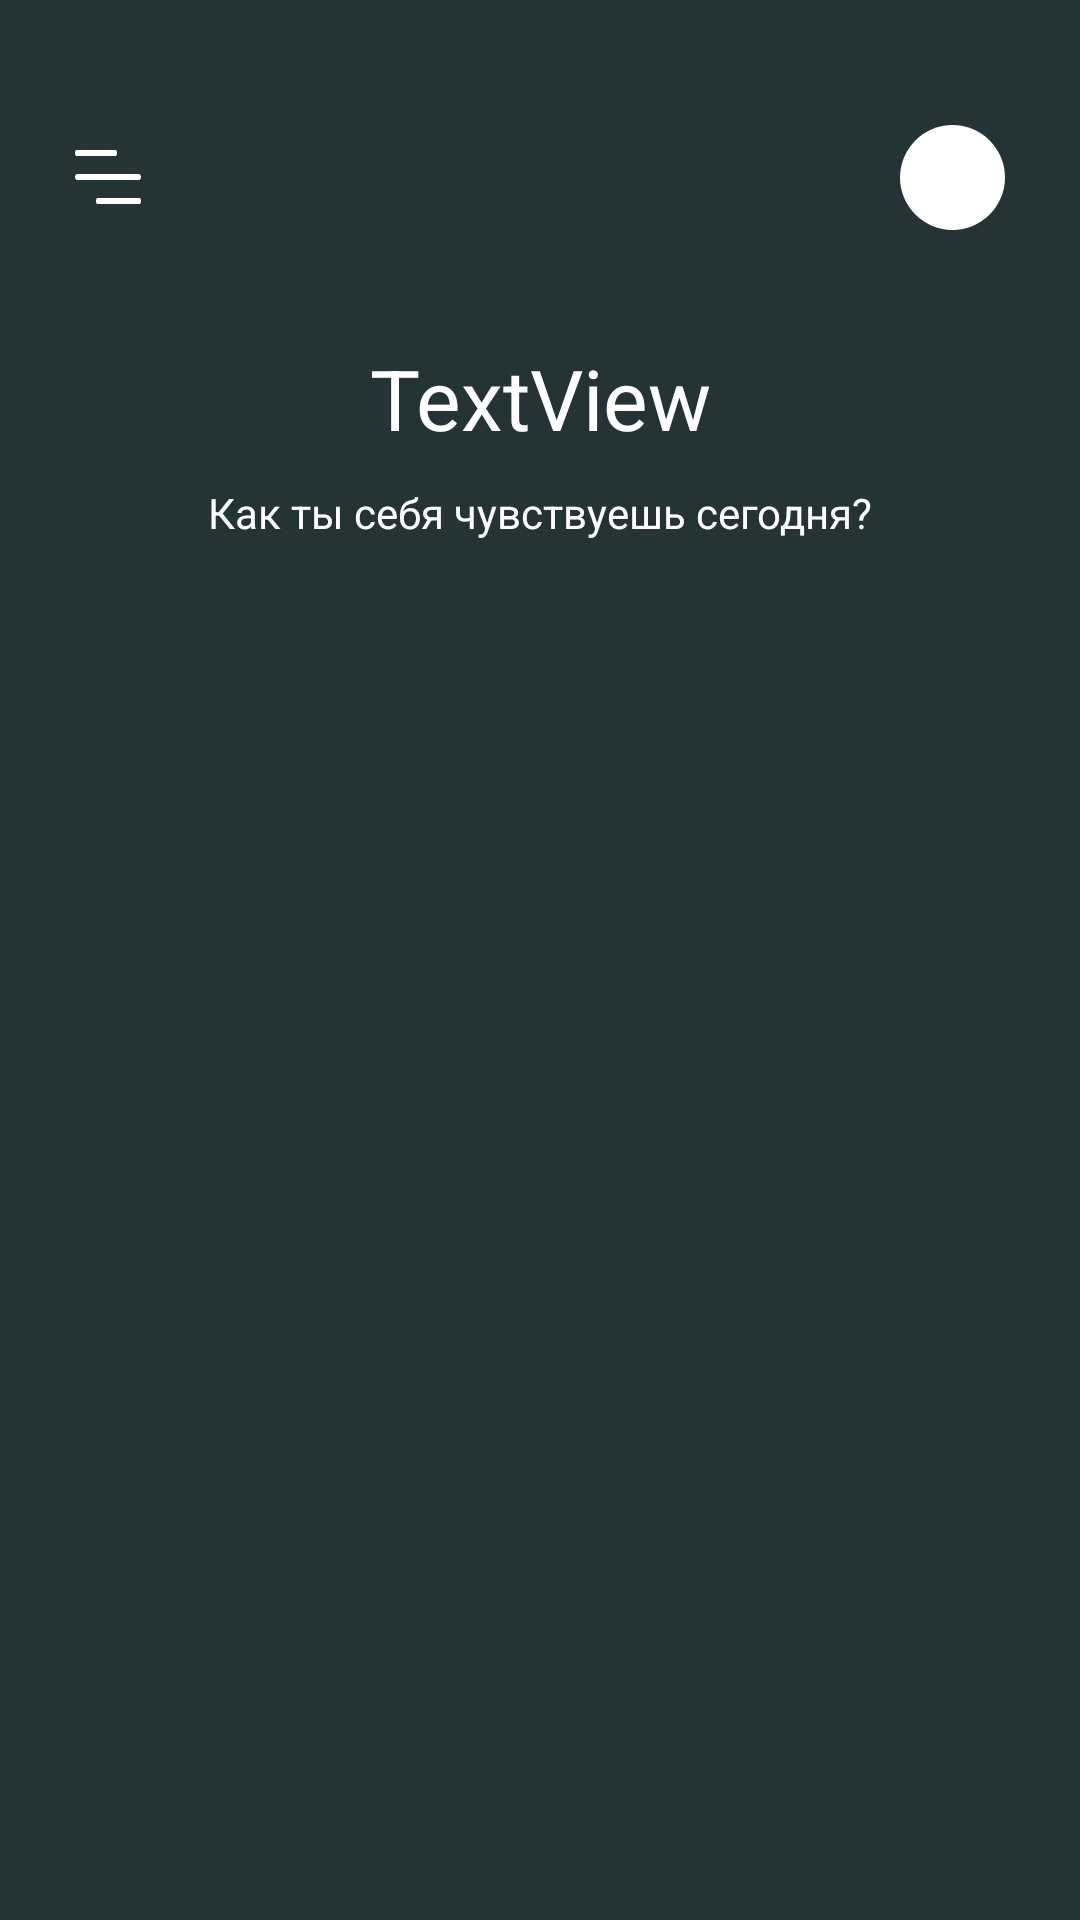

Named icons in this screenshot (1080px×1920px) and their centers, [x,y]:
hamburger: [108,177]
